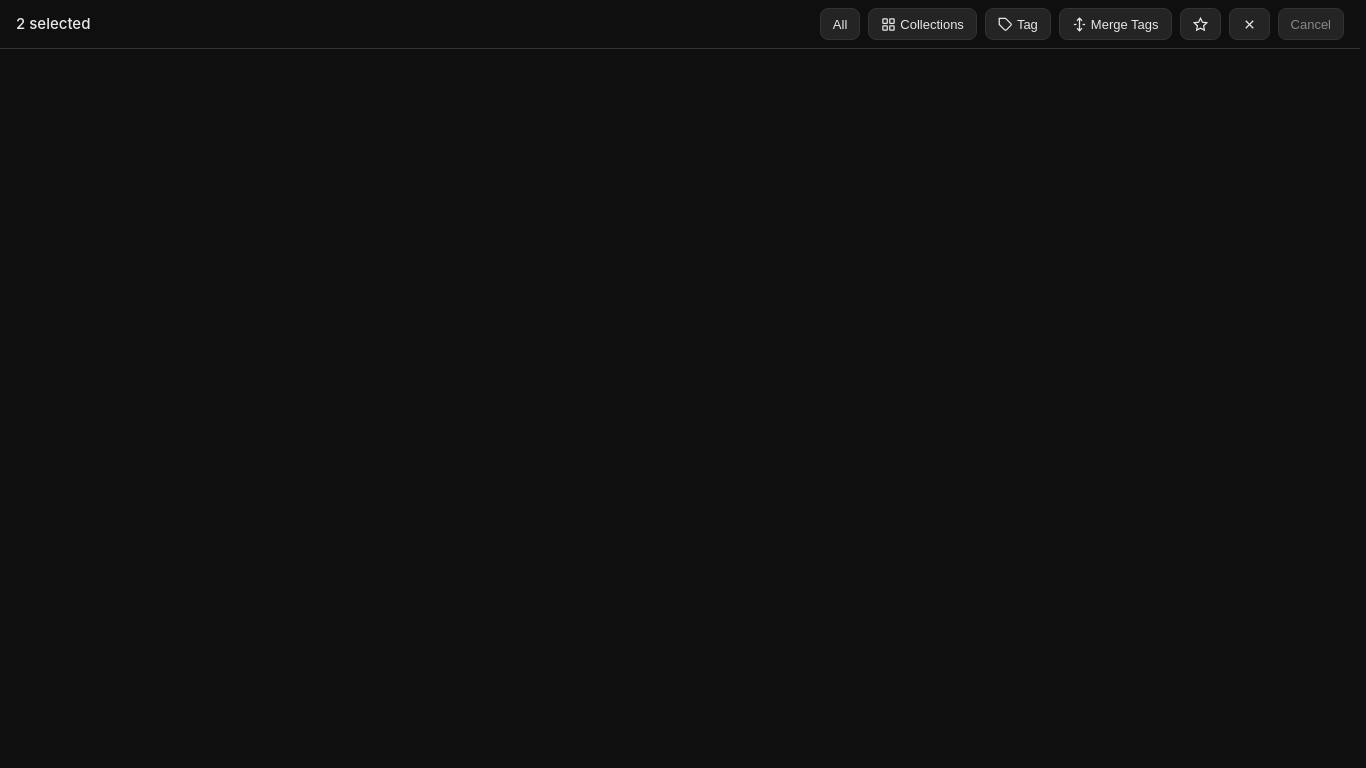
GalleryToolbar — bulk tagging › distinguishes tags on every selected item from tags on only some
The width and height of the screenshot is (1366, 768).
Click the button with aria-label "Tag selected". click: (1018, 24)
box: [985,8,1051,40]
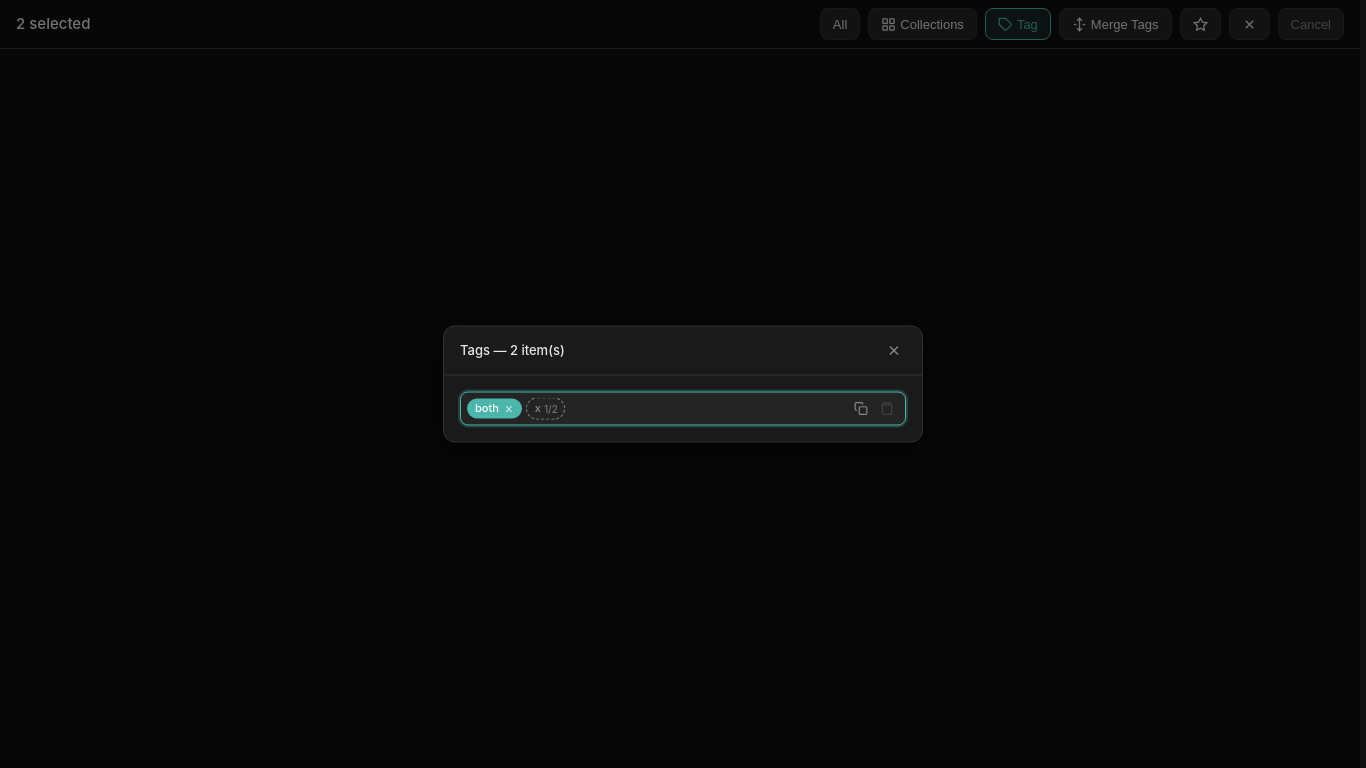
Result: the text "both" is shown at [475,401,499,415]
Result: the button named "x, on 1 of 2 items" is shown at [526,398,565,419]
